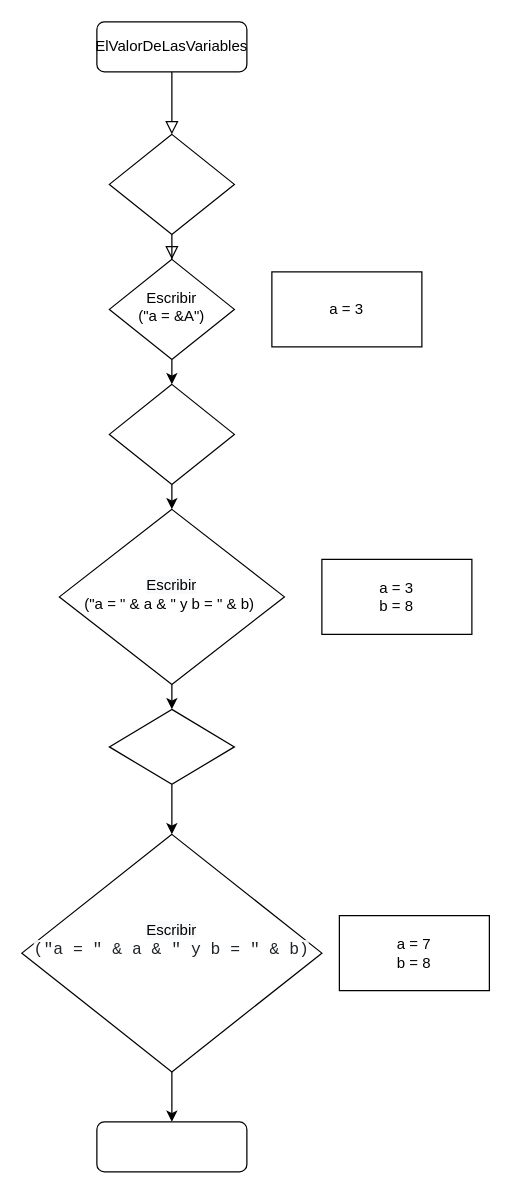
Some shapes in this 511 by 1194 pixel diagram are drawn without their labels. The centre of each missing label's shape, as x and y in pixels:
"A <- 3" belongs at [171,183].
"a<-7" belongs at [171,746].
"b<-a+5" belongs at [171,433].
"Fin del programa" belongs at [171,1146].
